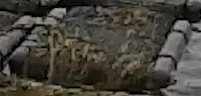bag: (8, 8, 190, 75)
